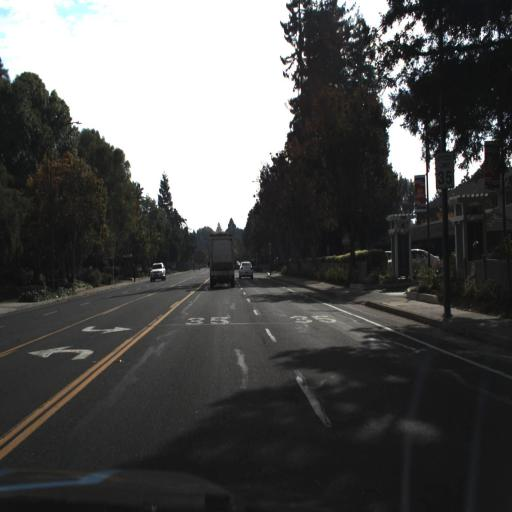car: (405, 245, 438, 280), (146, 257, 169, 282), (236, 257, 255, 281), (147, 262, 167, 282)
truck: (206, 230, 237, 290)
